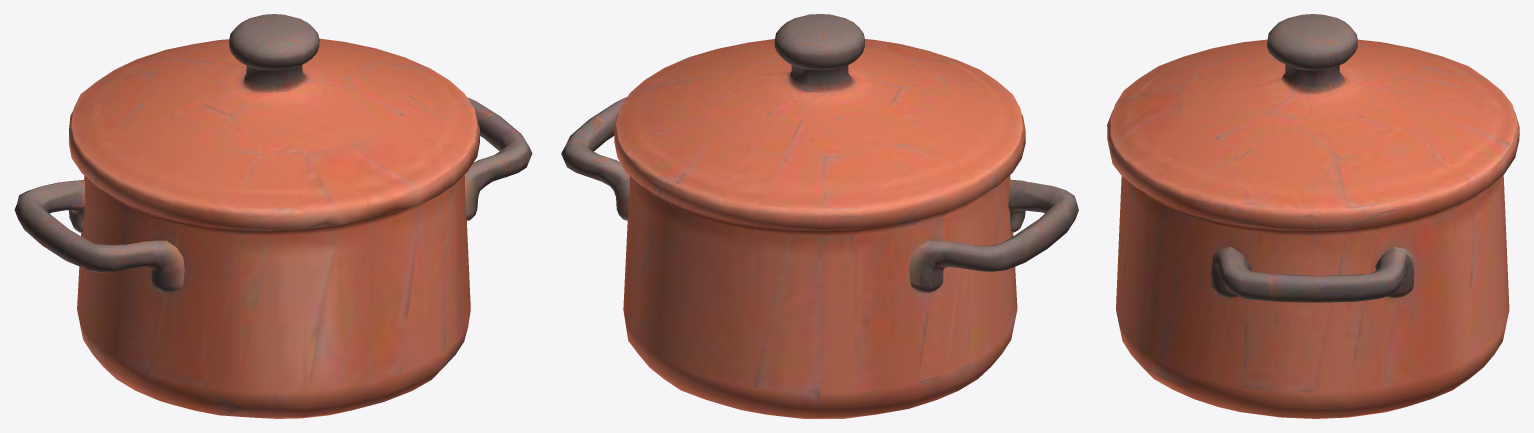
The model's file is item-copperPot.glb.
The picture shows the model from 3 angles, left to right: view 1: azimuth 30°, elevation 25°; view 2: azimuth 150°, elevation 25°; view 3: azimuth 270°, elevation 25°; orthographic projection.
Size of the model in its own units: 0.9541 by 0.6396 by 0.7349.
1 material, 1 textured.
